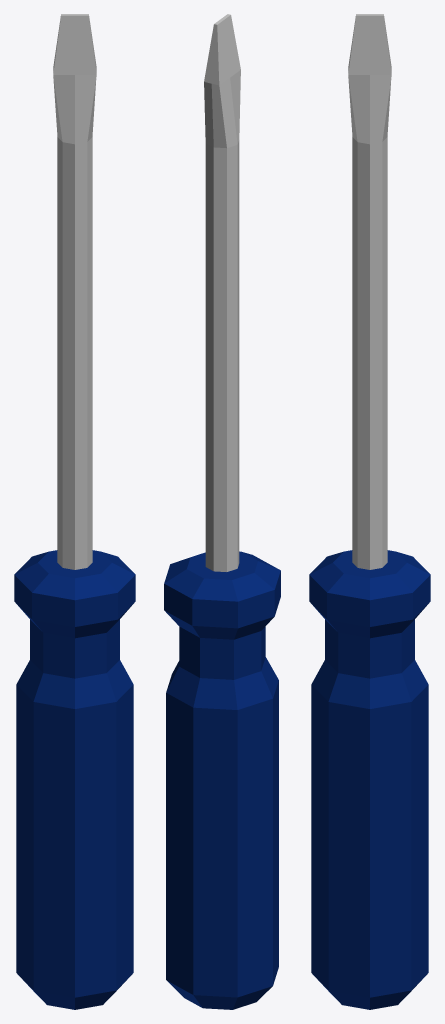
File: screwdriver_v1.fbx
3 views of the same model, side by side, from view 1: azimuth 90°, elevation 25°; view 2: azimuth 150°, elevation 25°; view 3: azimuth 270°, elevation 25° (orthographic).
Visible parts, largest first — view 1: Cylinder; view 2: Cylinder; view 3: Cylinder.
Part boxes in pixels (x1,y1,x2,y2): Cylinder: (14,14,135,1009); Cylinder: (164,14,280,1009); Cylinder: (309,14,430,1009).
Bounding box in the file's own units: 51.08 × 455 × 51.08.
